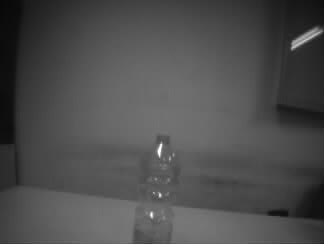Bottle: (130, 132, 182, 244)
